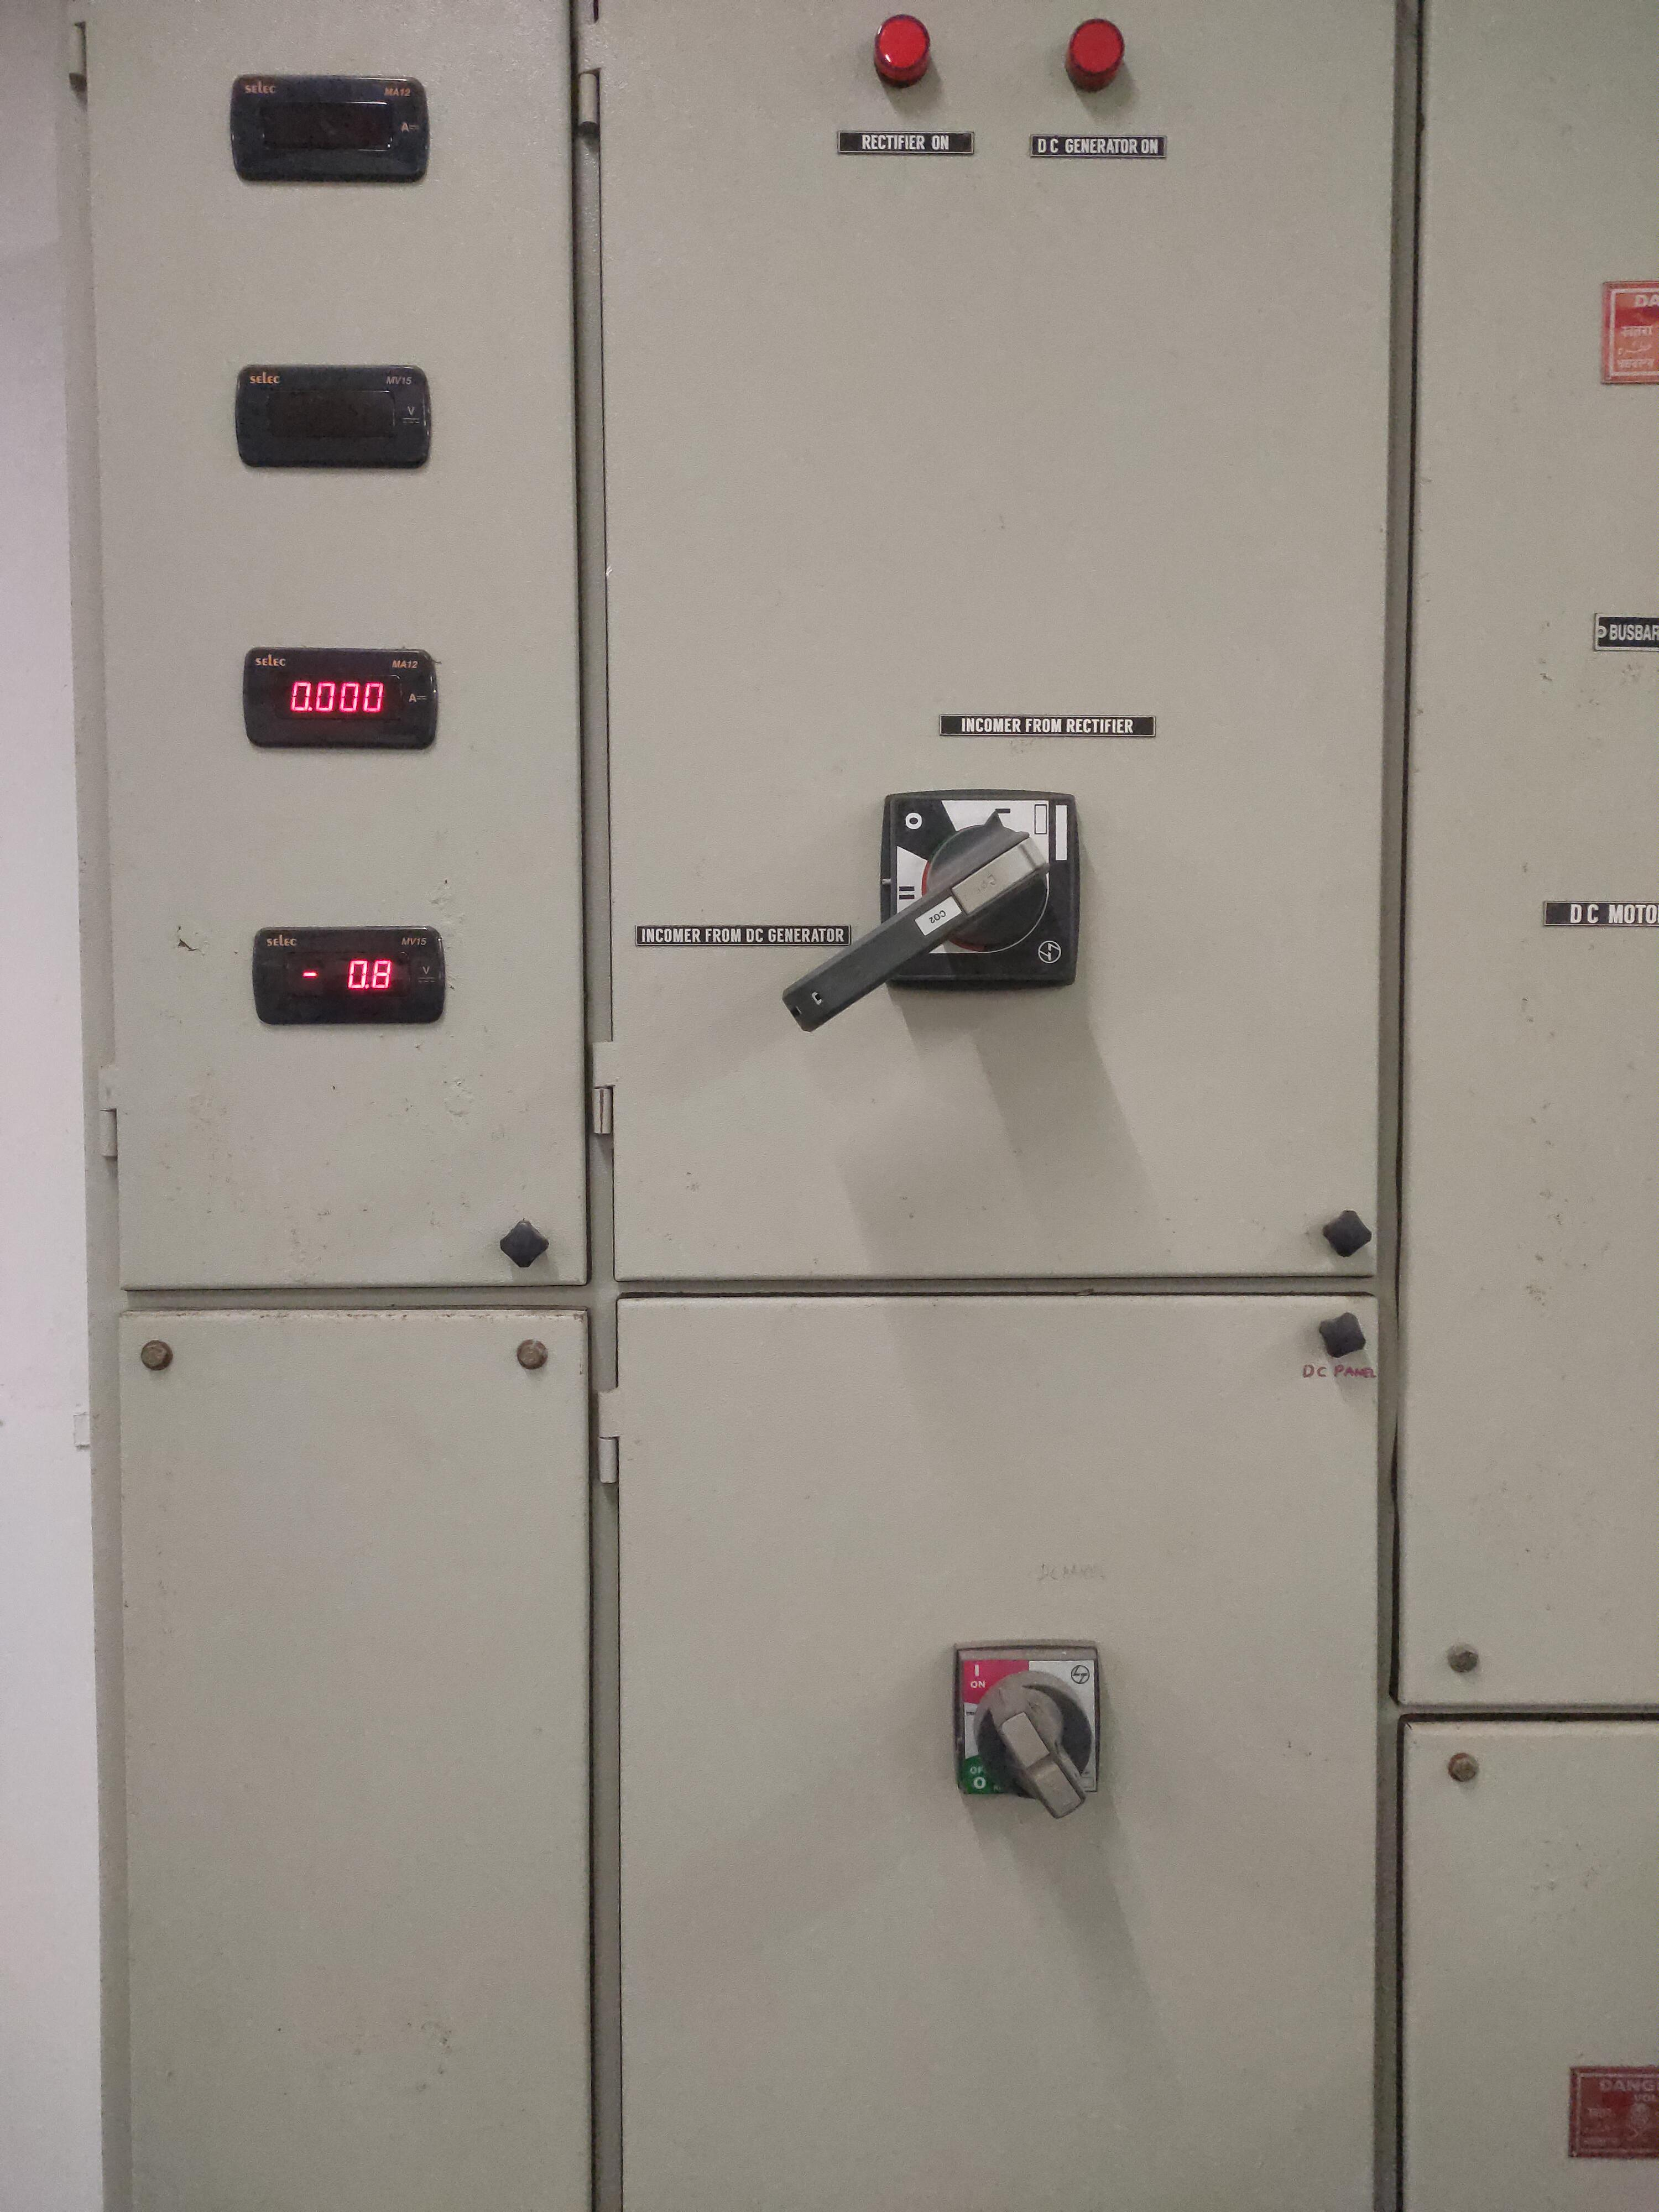Knob 1: (755, 766, 1155, 1075)
Knob 2: (927, 1599, 1138, 1843)
Light Indications: (824, 9, 1155, 185)
